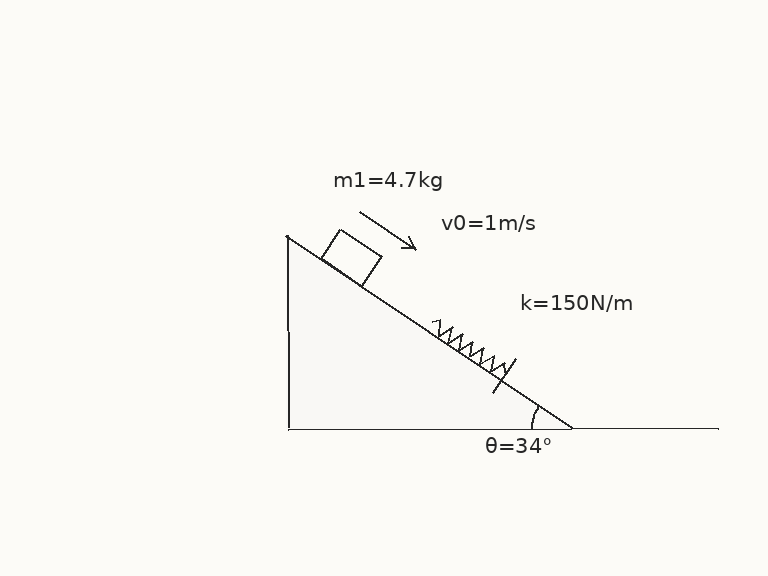block: (319, 227, 383, 288)
ramp: (285, 234, 574, 430)
spring: (430, 318, 508, 374)
